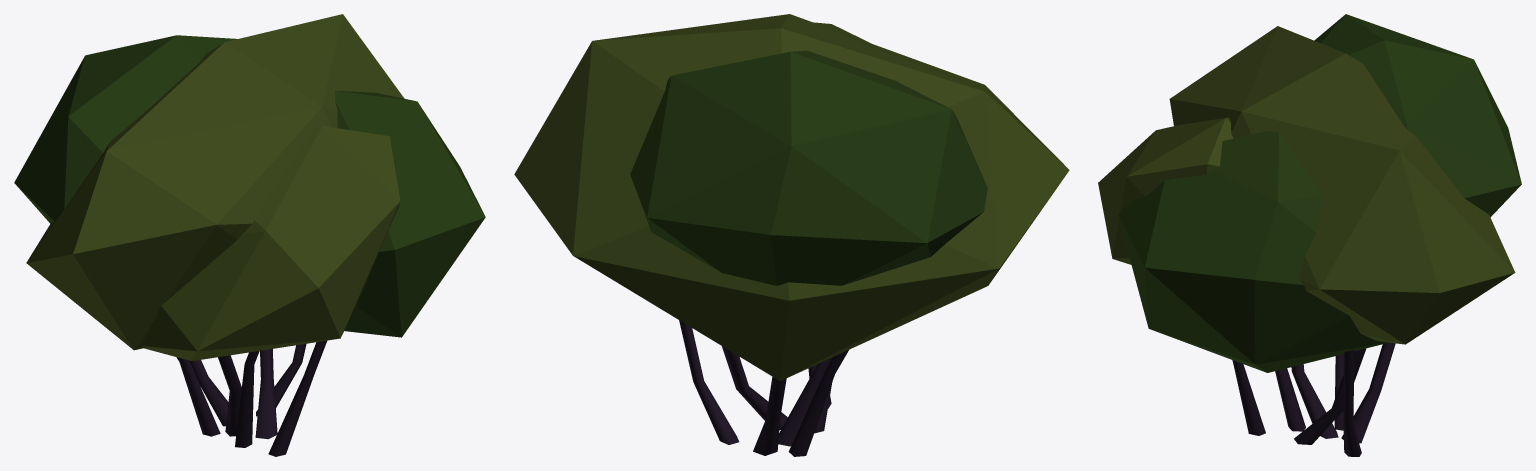
The model's file is Brush1.FBX.
3 renders of one model, left to right at view 1: azimuth 30°, elevation 25°; view 2: azimuth 150°, elevation 25°; view 3: azimuth 270°, elevation 25°, orthographic. The views are drawn at different scales.
Visible parts, largest first — view 1: GeoSphere017; view 2: GeoSphere017; view 3: GeoSphere017.
Part boxes in pixels (x1,y1,x2,y2): GeoSphere017: [14, 14, 485, 456]; GeoSphere017: [514, 14, 1069, 456]; GeoSphere017: [1098, 14, 1521, 456].
Bounding box in the file's own units: 31.89 × 28.87 × 29.08.
